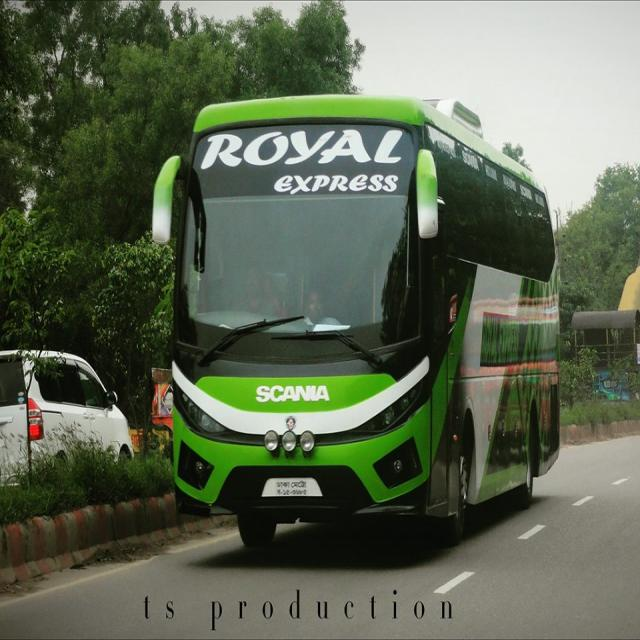bus: (150, 92, 561, 551)
